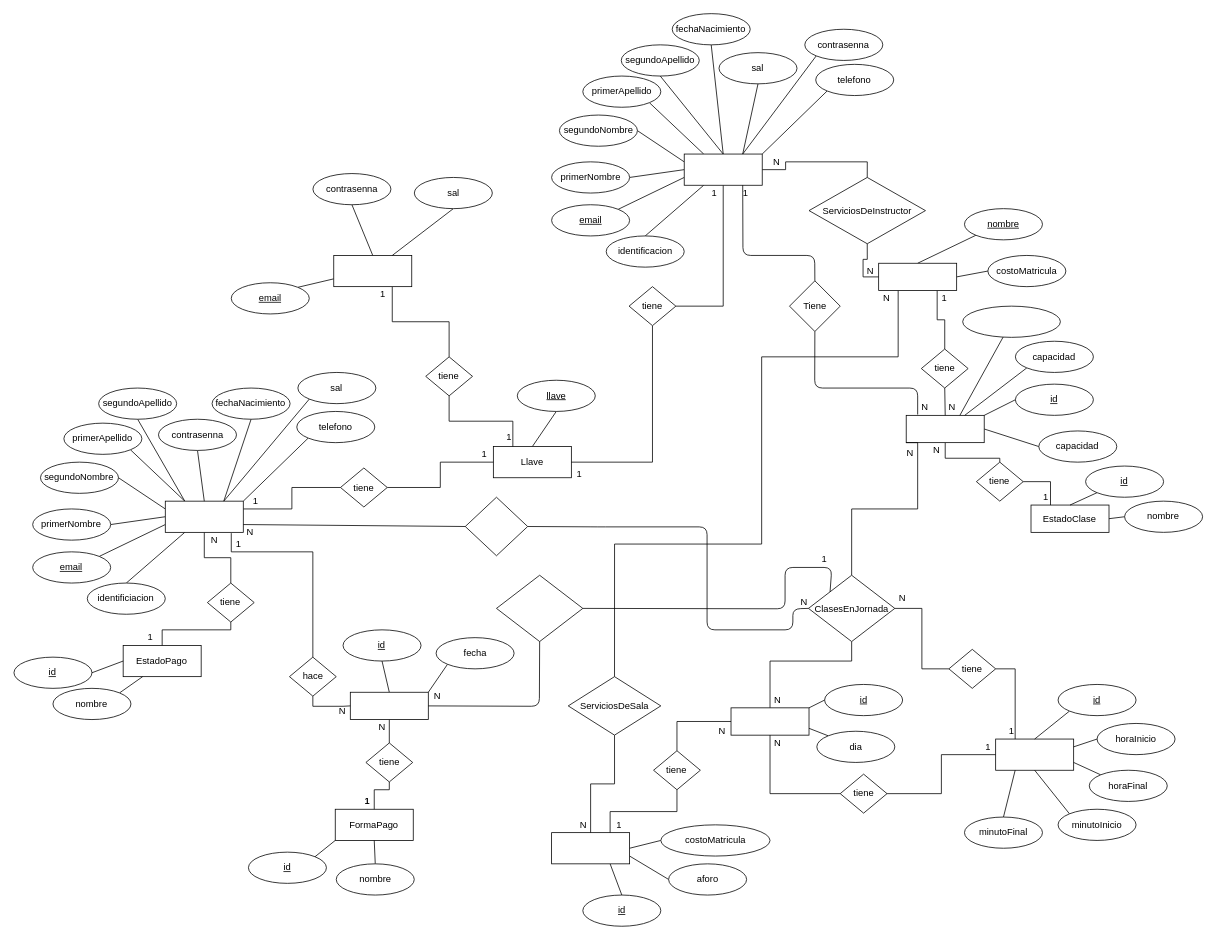
The diagram is 1216 pixels wide and 940 high, and some of its shapes have lost their labels. The shapes that lost their labels are listed below. From the top down, each one's centre as x and y in pixels, then its label:
(x=722, y=169): Instructor
(x=372, y=271): Administrador
(x=917, y=276): Servicio
(x=1011, y=321): visto_por_instructor
(x=944, y=429): Clase
(x=204, y=516): Cliente
(x=496, y=526): Matricula
(x=539, y=608): PagosDeClase
(x=389, y=705): Pago
(x=769, y=721): Jornada
(x=1034, y=754): IntervaloTiempo
(x=590, y=848): Sala
